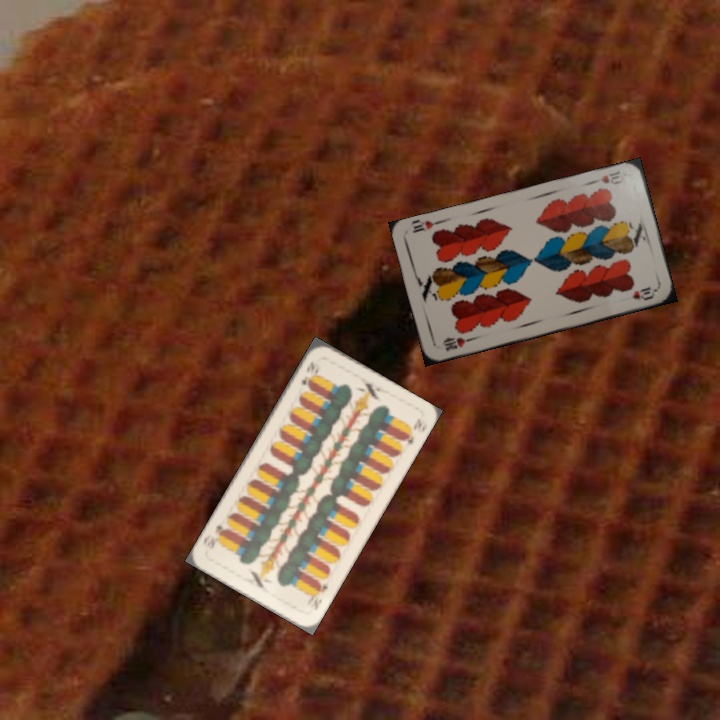E10: (307, 578, 331, 613), (297, 358, 321, 390)
H10: (438, 333, 476, 354), (588, 167, 626, 187)
